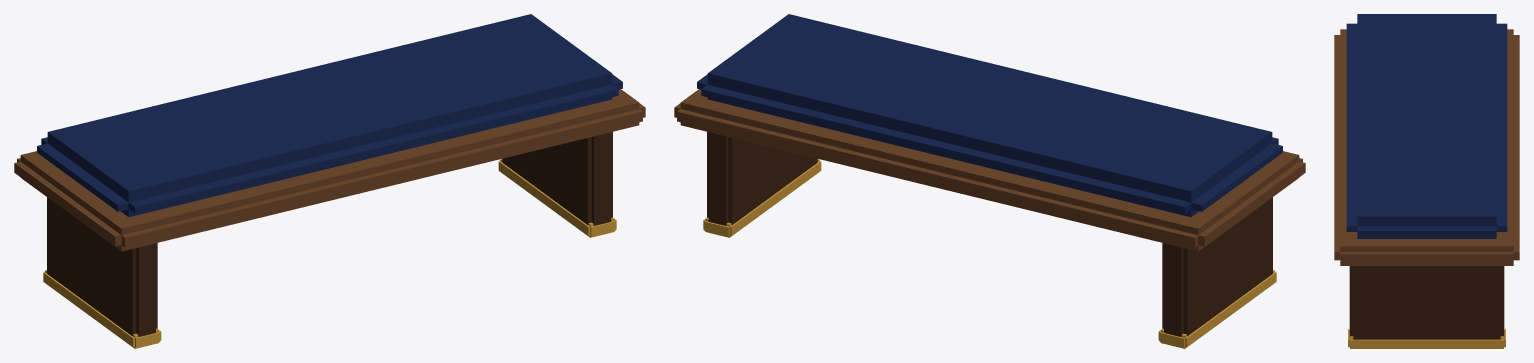
The model's file is bench.glb.
3 views of the same model, side by side, from view 1: azimuth 30°, elevation 25°; view 2: azimuth 150°, elevation 25°; view 3: azimuth 270°, elevation 25° (orthographic). The views are drawn at different scales.
Visible parts, largest first — view 1: bench_navy_fabric, bench_wood, bench_wood_dark, bench_brass; view 2: bench_navy_fabric, bench_wood, bench_wood_dark, bench_brass; view 3: bench_navy_fabric, bench_wood_dark, bench_wood, bench_brass.
Boxes of the visible parts, left/top/right/bottom form: bench_navy_fabric: left=37, top=14, right=622, bottom=217; bench_wood: left=14, top=89, right=645, bottom=251; bench_wood_dark: left=47, top=132, right=612, bottom=336; bench_brass: left=43, top=159, right=616, bottom=348; bench_navy_fabric: left=697, top=14, right=1282, bottom=217; bench_wood: left=674, top=89, right=1305, bottom=251; bench_wood_dark: left=707, top=132, right=1272, bottom=336; bench_brass: left=703, top=159, right=1276, bottom=348; bench_navy_fabric: left=1346, top=14, right=1507, bottom=238; bench_wood_dark: left=1349, top=266, right=1504, bottom=339; bench_wood: left=1334, top=29, right=1519, bottom=265; bench_brass: left=1348, top=329, right=1505, bottom=348.
Bounding box in the file's own units: 1.7 × 0.475 × 0.6.
